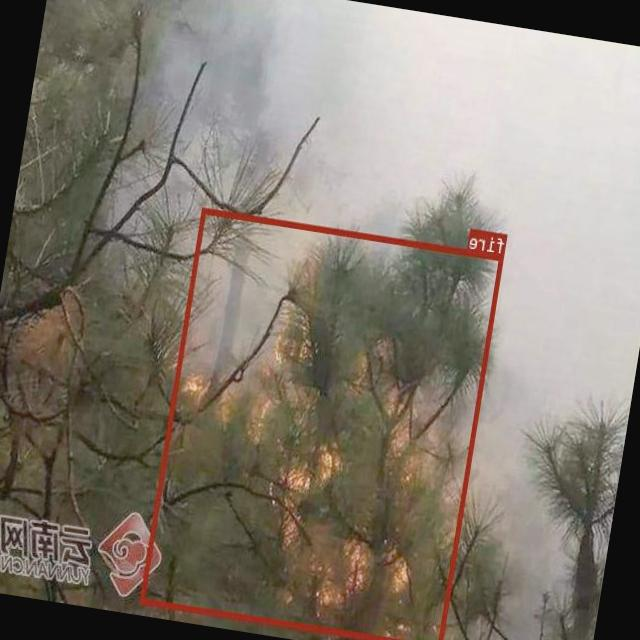fire: (141, 207, 505, 640)
